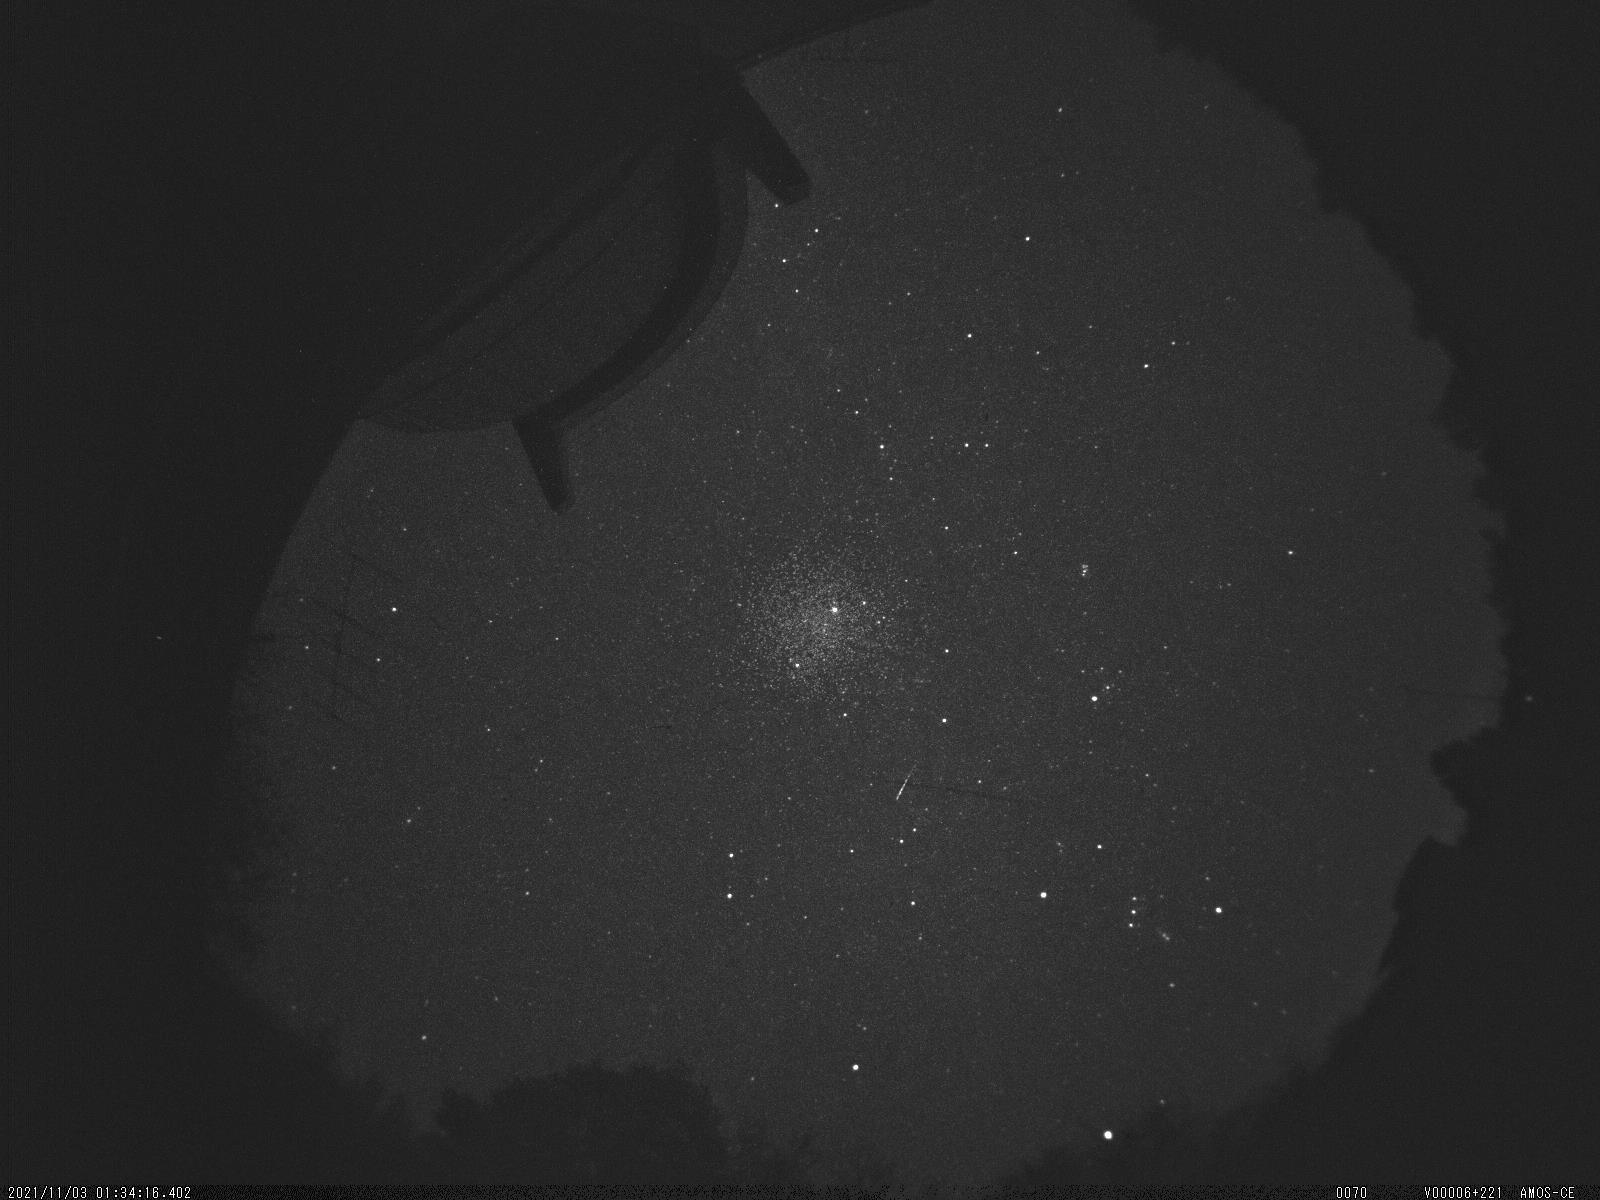Meteor: (887, 755, 920, 818)
